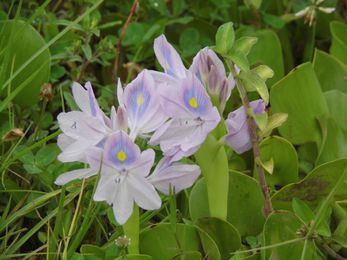water_hyacinth: (57, 26, 346, 258)
